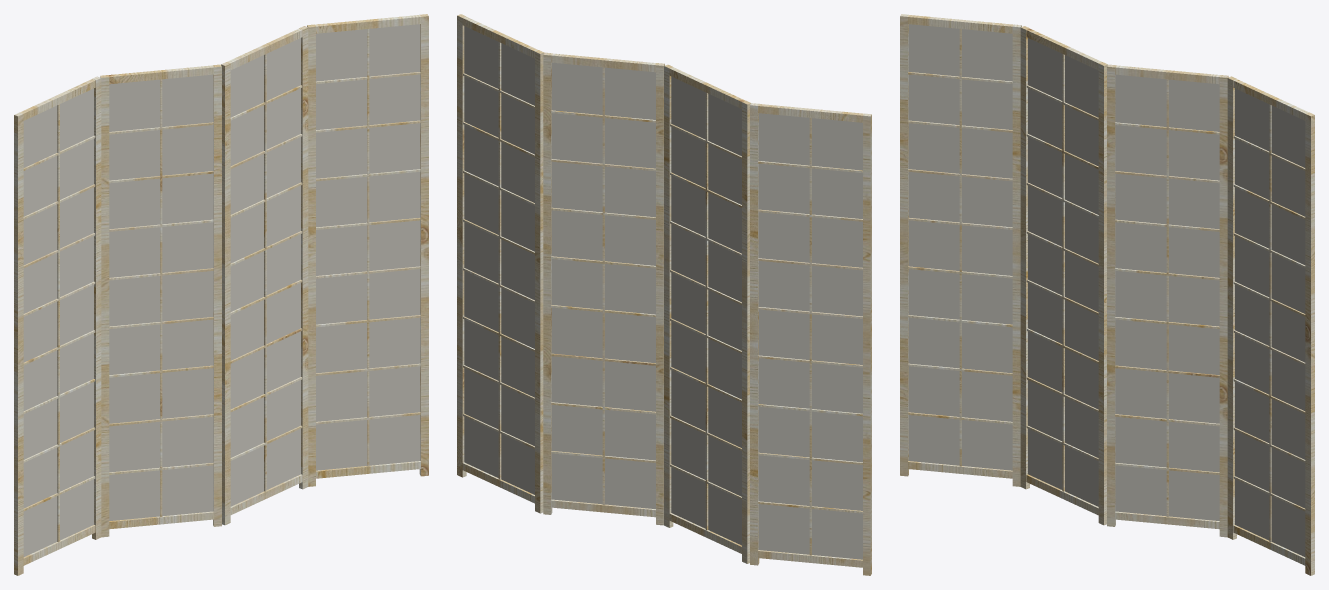
Rendered from japanese_style_screen.obj.
3 views of the same model, side by side, from view 1: azimuth 30°, elevation 25°; view 2: azimuth 150°, elevation 25°; view 3: azimuth 330°, elevation 25° (orthographic).
Parts seen in each view (by area): view 1: paper.001_Cube.013, paper.002_Cube.016, paper_Cube.003, paper.003_Cube.017, wood.001_Cube.014, wood.002_Cube.015, wood_Cube.001, wood.003_Cube.018; view 2: paper_Cube.003, paper.003_Cube.017, paper.002_Cube.016, paper.001_Cube.013, wood_Cube.001, wood.003_Cube.018, wood.002_Cube.015, wood.001_Cube.014; view 3: paper_Cube.003, paper.003_Cube.017, paper.002_Cube.016, paper.001_Cube.013, wood_Cube.001, wood.003_Cube.018, wood.002_Cube.015, wood.001_Cube.014.
Part boxes in pixels (left/top/right/bottom): paper.001_Cube.013: left=109, top=74, right=213, bottom=520; paper.002_Cube.016: left=316, top=24, right=420, bottom=470; paper_Cube.003: left=23, top=88, right=93, bottom=556; paper.003_Cube.017: left=230, top=38, right=300, bottom=506; wood.001_Cube.014: left=100, top=64, right=221, bottom=537; wood.002_Cube.015: left=307, top=14, right=428, bottom=486; wood_Cube.001: left=14, top=76, right=101, bottom=575; wood.003_Cube.018: left=221, top=26, right=308, bottom=525; paper_Cube.003: left=758, top=113, right=862, bottom=559; paper.003_Cube.017: left=551, top=62, right=655, bottom=509; paper.002_Cube.016: left=464, top=26, right=534, bottom=494; paper.001_Cube.013: left=671, top=76, right=741, bottom=545; wood_Cube.001: left=750, top=103, right=871, bottom=575; wood.003_Cube.018: left=543, top=52, right=664, bottom=525; wood.002_Cube.015: left=457, top=14, right=544, bottom=513; wood.001_Cube.014: left=664, top=64, right=750, bottom=563; paper_Cube.003: left=908, top=24, right=1012, bottom=470; paper.003_Cube.017: left=1115, top=74, right=1219, bottom=520; paper.002_Cube.016: left=1235, top=88, right=1305, bottom=556; paper.001_Cube.013: left=1028, top=38, right=1098, bottom=506; wood_Cube.001: left=900, top=14, right=1021, bottom=486; wood.003_Cube.018: left=1107, top=64, right=1228, bottom=537; wood.002_Cube.015: left=1227, top=76, right=1314, bottom=575; wood.001_Cube.014: left=1020, top=26, right=1107, bottom=525.
Size of the model in its own units: 178 by 189 by 15.84.
